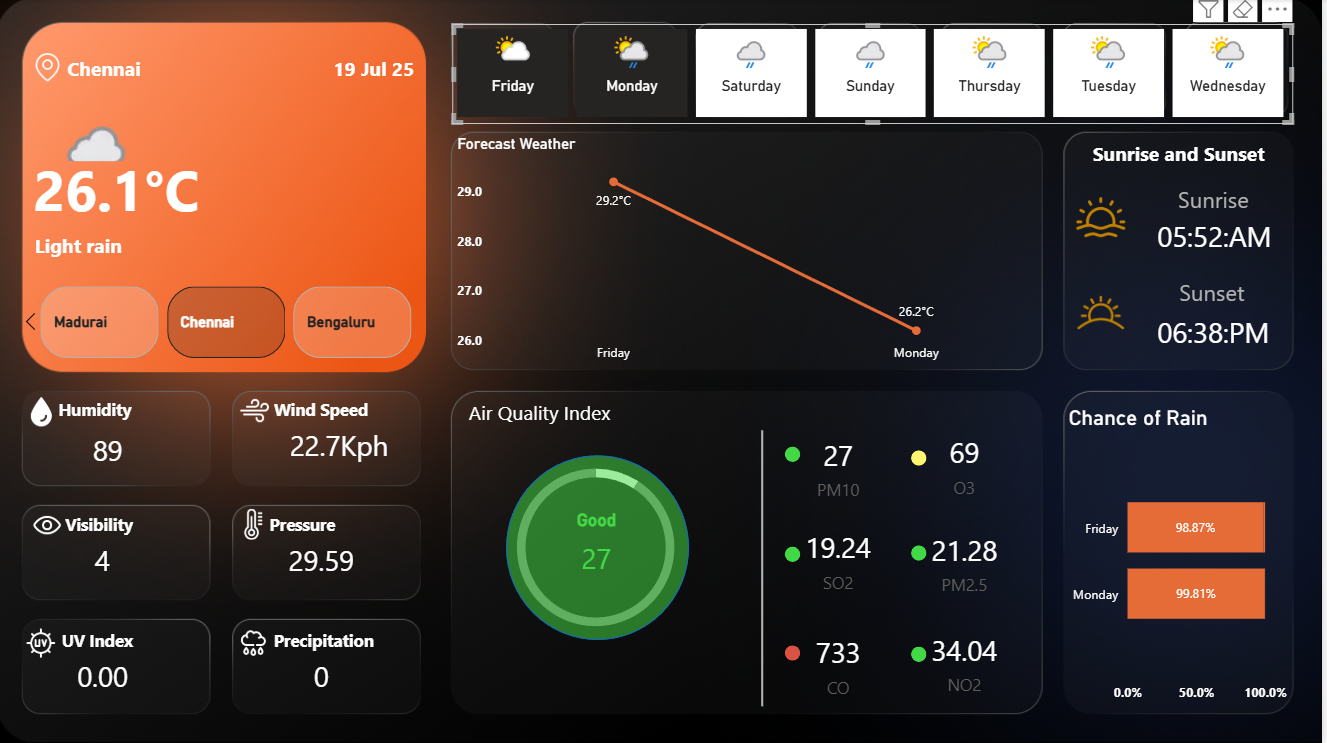

The dashboard page shown, as its layout file describes it:
{"tool":"powerbi","page":{"name":"Weather_Dashboard","canvas":[1280,720],"ordinal":0},"visuals":[{"type":"donutChart","fields":{"Y":["Sum(Current.current.air_quality.pm10)","_Measure.Left_value_PM10"]},"box":[468.3,430,221.7,200],"z":0},{"type":"shape","box":[491.7,440,176.7,178.3],"z":1000},{"type":"advancedSlicerVisual","fields":{"Values":["Locations.location.name"]},"box":[17.9,273.1,408.1,79.7],"z":2000},{"type":"shape","box":[35.8,126.8,190.2,110.6],"z":3000},{"type":"shape","box":[37,217.2,188.1,41.3],"z":4000},{"type":"shape","box":[68.3,45.5,188.6,40.6],"z":5000},{"type":"shape","box":[250.4,45.5,152.8,40.6],"z":6000},{"type":"image","box":[30.9,45.5,37.4,40.6],"z":7000},{"type":"cardVisual","fields":{"Data":["Min(Current.current.condition.icon)"]},"box":[35.8,86.2,95.9,76.4],"z":8000},{"type":"image","box":[24.4,487.7,50.4,40.6],"z":9000},{"type":"image","box":[222.7,601.5,50.4,39],"z":10000},{"type":"image","box":[17.9,601.5,50.4,39],"z":11000},{"type":"image","box":[224.4,377.2,50.4,39],"z":12000},{"type":"image","box":[19.5,378.8,48.8,39],"z":13000},{"type":"image","box":[222.7,487.7,50.4,39],"z":14000},{"type":"textbox","box":[43.9,380.4,104,37.4],"z":15000},{"type":"textbox","box":[248.7,380.4,115.4,37.4],"z":16000},{"type":"textbox","box":[50.4,491,97.5,37.4],"z":17000},{"type":"textbox","box":[250.4,491,89.4,37.4],"z":18000},{"type":"textbox","box":[48.8,603.2,99.2,37.4],"z":19000},{"type":"textbox","box":[263.4,603.2,123.6,37.4],"z":20000},{"type":"card","fields":{"Values":["Sum(Current.current.humidity)"]},"box":[68.3,400,78.3,71.7],"z":21000},{"type":"card","fields":{"Values":["_Measure.Wind_Speed"]},"box":[274.8,399.9,112.2,65],"z":22000},{"type":"card","fields":{"Values":["Sum(Current.current.pressure_in)"]},"box":[274.8,510.5,78,65],"z":23000},{"type":"card","fields":{"Values":["Sum(Current.current.vis_km)"]},"box":[63.4,510.5,78,65],"z":24000},{"type":"card","fields":{"Values":["Sum(Current.current.uv)"]},"box":[63.4,622.7,78,65],"z":25000},{"type":"card","fields":{"Values":["Sum(Current.current.precip_mm)"]},"box":[274.8,622.7,78,65],"z":26000},{"type":"advancedSlicerVisual","fields":{"Values":["Forecast_Day.Day_Name"]},"box":[440.6,24.4,811.3,95.9],"z":27000},{"type":"lineChart","title":"Forecast Weather","fields":{"Y":["Sum(Forecast_Day.forecast.forecastday.day.avgtemp_c)"],"Category":["Forecast_Day.Day_Name"]},"box":[440,131.7,570,228.3],"z":28000},{"type":"textbox","box":[1031.7,131.7,220,50],"z":29000},{"type":"shape","box":[1120.8,209.9,136.3,37.4],"z":30000},{"type":"shape","box":[1120.6,303.3,136.7,36.7],"z":31000},{"type":"textbox","box":[1120.6,173.3,108.3,53.3],"z":32000},{"type":"textbox","box":[1078.9,263.3,190,58.3],"z":33000},{"type":"image","box":[1031.7,268.3,70,70],"z":34000},{"type":"image","box":[1031.7,181.7,70,56.7],"z":35000},{"type":"textbox","box":[451.7,381.7,220,50],"z":36000},{"type":"card","fields":{"Values":["Sum(Current.current.air_quality.pm10)"]},"box":[761.7,416.7,103.3,71.7],"z":37000},{"type":"card","fields":{"Values":["Sum(Current.current.air_quality.pm2_5)"]},"box":[883.3,505,103.3,76.7],"z":38000},{"type":"card","fields":{"Values":["Sum(Current.current.air_quality.no2)"]},"box":[883.3,601.7,103.3,76.7],"z":39000},{"type":"card","fields":{"Values":["Sum(Current.current.air_quality.o3)"]},"box":[883.3,411.7,103.3,76.7],"z":40000},{"type":"card","fields":{"Values":["Sum(Current.current.air_quality.so2)"]},"box":[761.1,505,103.3,71.7],"z":41000},{"type":"card","fields":{"Values":["Sum(Current.current.air_quality.co)"]},"box":[761.1,606.7,103.3,71.7],"z":42000},{"type":"shape","box":[761.1,431.7,15,15],"z":43000},{"type":"shape","box":[761.1,623.3,15,15],"z":44000},{"type":"shape","box":[761.1,528.3,15,15],"z":45000},{"type":"shape","box":[883.3,435,15,15],"z":46000},{"type":"shape","box":[883.3,526.7,15,15],"z":47000},{"type":"shape","box":[883.3,625,15,15],"z":48000},{"type":"shape","box":[718.3,416.7,43.3,266.7],"z":49000},{"type":"card","fields":{"Values":["Sum(Current.current.air_quality.pm10)"]},"box":[518.3,491.7,121.7,78.3],"z":50000},{"type":"hundredPercentStackedBarChart","title":"Chance of Rain","fields":{"Category":["Forecast_Day.Day_Name"],"Y":["Sum(Forecast_Hour.forecast.forecastday.hour.chance_of_rain)","_Measure.Left_value_Rain"]},"box":[1030.3,392.1,220.8,295.6],"z":51000}]}

Visuals, with their boxes on the page's 1280x720 design canvas (x1, y1, x2, y2). These are canvas units, not pixel positions in the 1327x743 screenshot, which may show the page scaled, cropped or inside an application window:
donutChart - Sum(Current.current.air_quality.pm10) x _Measure.Left_value_PM10: (left=468, top=430, right=690, bottom=630)
shape: (left=492, top=440, right=668, bottom=618)
advancedSlicerVisual - Locations.location.name: (left=18, top=273, right=426, bottom=353)
shape: (left=36, top=127, right=226, bottom=237)
shape: (left=37, top=217, right=225, bottom=258)
shape: (left=68, top=46, right=257, bottom=86)
shape: (left=250, top=46, right=403, bottom=86)
image: (left=31, top=46, right=68, bottom=86)
cardVisual - Min(Current.current.condition.icon): (left=36, top=86, right=132, bottom=163)
image: (left=24, top=488, right=75, bottom=528)
image: (left=223, top=602, right=273, bottom=640)
image: (left=18, top=602, right=68, bottom=640)
image: (left=224, top=377, right=275, bottom=416)
image: (left=20, top=379, right=68, bottom=418)
image: (left=223, top=488, right=273, bottom=527)
textbox: (left=44, top=380, right=148, bottom=418)
textbox: (left=249, top=380, right=364, bottom=418)
textbox: (left=50, top=491, right=148, bottom=528)
textbox: (left=250, top=491, right=340, bottom=528)
textbox: (left=49, top=603, right=148, bottom=641)
textbox: (left=263, top=603, right=387, bottom=641)
card - Sum(Current.current.humidity): (left=68, top=400, right=147, bottom=472)
card - _Measure.Wind_Speed: (left=275, top=400, right=387, bottom=465)
card - Sum(Current.current.pressure_in): (left=275, top=510, right=353, bottom=576)
card - Sum(Current.current.vis_km): (left=63, top=510, right=141, bottom=576)
card - Sum(Current.current.uv): (left=63, top=623, right=141, bottom=688)
card - Sum(Current.current.precip_mm): (left=275, top=623, right=353, bottom=688)
advancedSlicerVisual - Forecast_Day.Day_Name: (left=441, top=24, right=1252, bottom=120)
"Forecast Weather" lineChart: (left=440, top=132, right=1010, bottom=360)
textbox: (left=1032, top=132, right=1252, bottom=182)
shape: (left=1121, top=210, right=1257, bottom=247)
shape: (left=1121, top=303, right=1257, bottom=340)
textbox: (left=1121, top=173, right=1229, bottom=227)
textbox: (left=1079, top=263, right=1269, bottom=322)
image: (left=1032, top=268, right=1102, bottom=338)
image: (left=1032, top=182, right=1102, bottom=238)
textbox: (left=452, top=382, right=672, bottom=432)
card - Sum(Current.current.air_quality.pm10): (left=762, top=417, right=865, bottom=488)
card - Sum(Current.current.air_quality.pm2_5): (left=883, top=505, right=987, bottom=582)
card - Sum(Current.current.air_quality.no2): (left=883, top=602, right=987, bottom=678)
card - Sum(Current.current.air_quality.o3): (left=883, top=412, right=987, bottom=488)
card - Sum(Current.current.air_quality.so2): (left=761, top=505, right=864, bottom=577)
card - Sum(Current.current.air_quality.co): (left=761, top=607, right=864, bottom=678)
shape: (left=761, top=432, right=776, bottom=447)
shape: (left=761, top=623, right=776, bottom=638)
shape: (left=761, top=528, right=776, bottom=543)
shape: (left=883, top=435, right=898, bottom=450)
shape: (left=883, top=527, right=898, bottom=542)
shape: (left=883, top=625, right=898, bottom=640)
shape: (left=718, top=417, right=762, bottom=683)
card - Sum(Current.current.air_quality.pm10): (left=518, top=492, right=640, bottom=570)
"Chance of Rain" hundredPercentStackedBarChart: (left=1030, top=392, right=1251, bottom=688)
